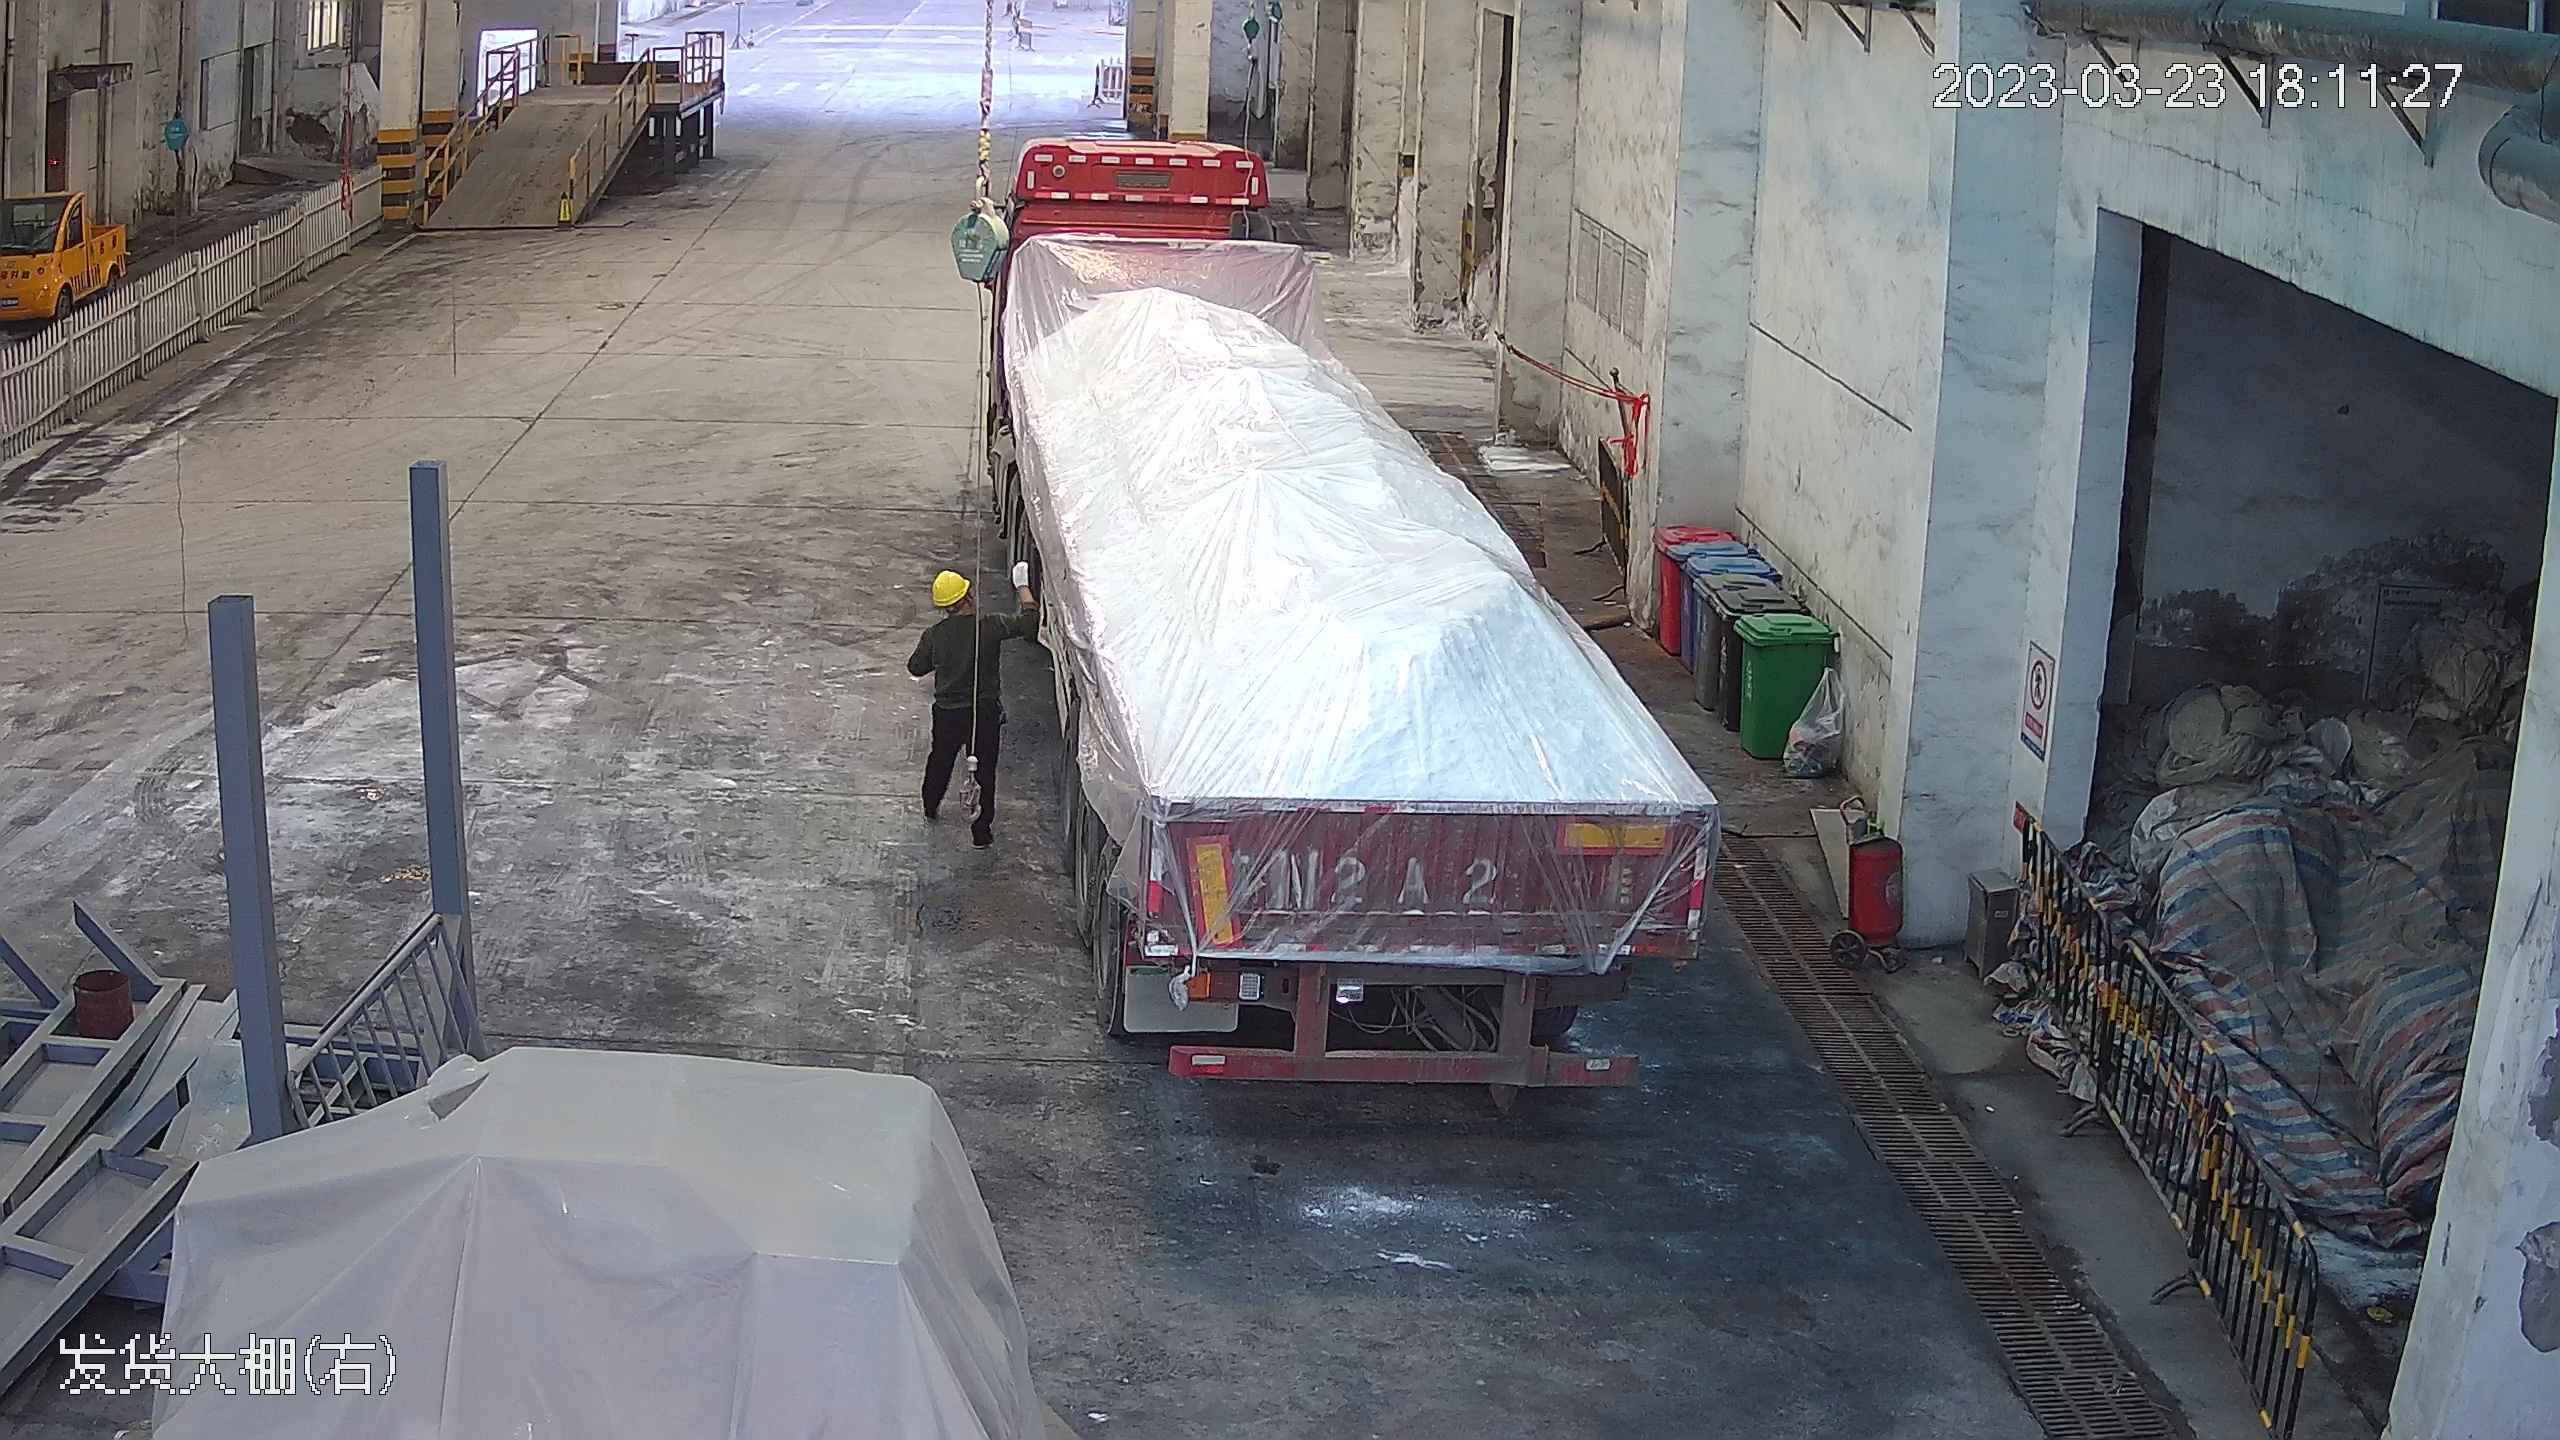head: (918, 566, 1001, 655)
helmet: (928, 565, 974, 605)
people: (906, 561, 1016, 843)
truck: (956, 120, 1721, 1092)
